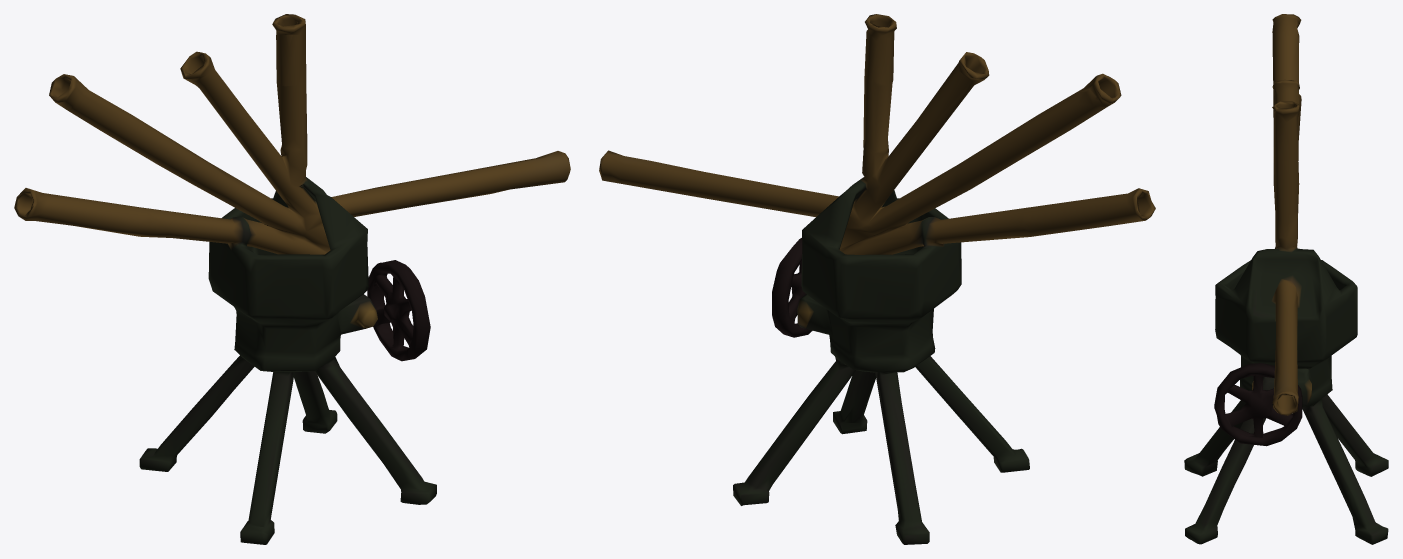
The model's file is gen3d-gatling-gun-lod0.glb.
The picture shows the model from 3 angles, left to right: view 1: azimuth 30°, elevation 25°; view 2: azimuth 150°, elevation 25°; view 3: azimuth 270°, elevation 25°; orthographic projection. The views are drawn at different scales.
Visible parts, largest first — view 1: part_0; view 2: part_0; view 3: part_0.
Part boxes in pixels (x1,y1,x2,y2): part_0: (14,14,570,544); part_0: (599,14,1155,544); part_0: (1184,14,1388,544).
Size of the model in its own units: 1.23 by 0.9986 by 0.4613.
